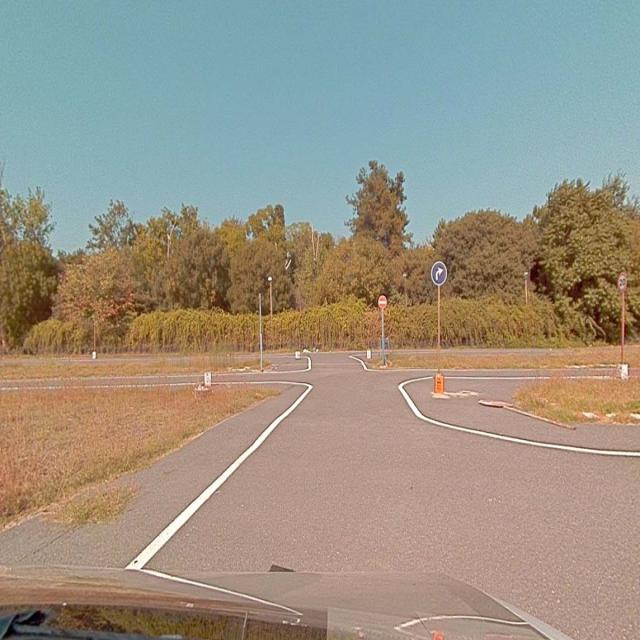20: (617, 274, 627, 292)
girisyok: (378, 296, 386, 308)
sag: (431, 260, 446, 284)
